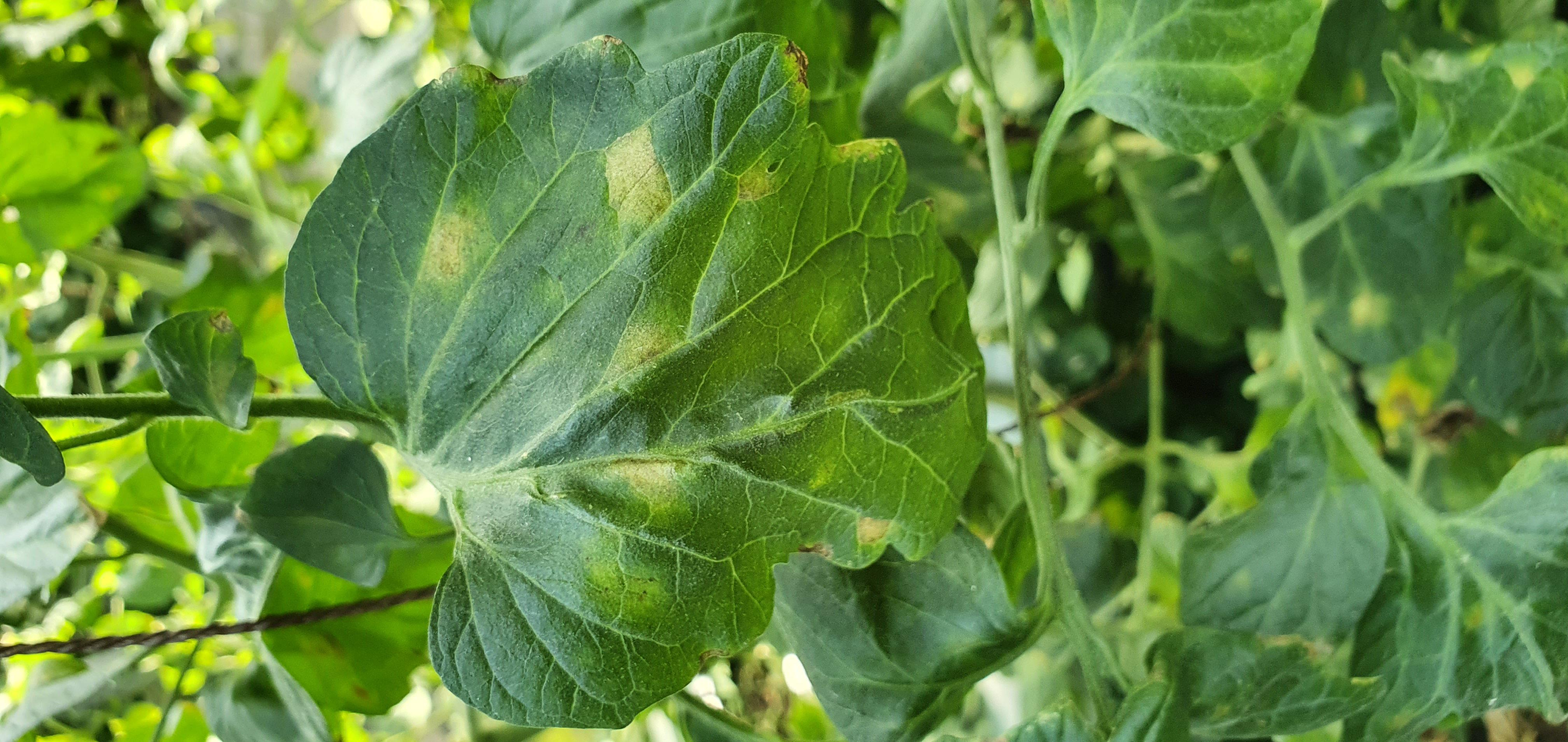Leaf Mold: (280, 27, 999, 742)
